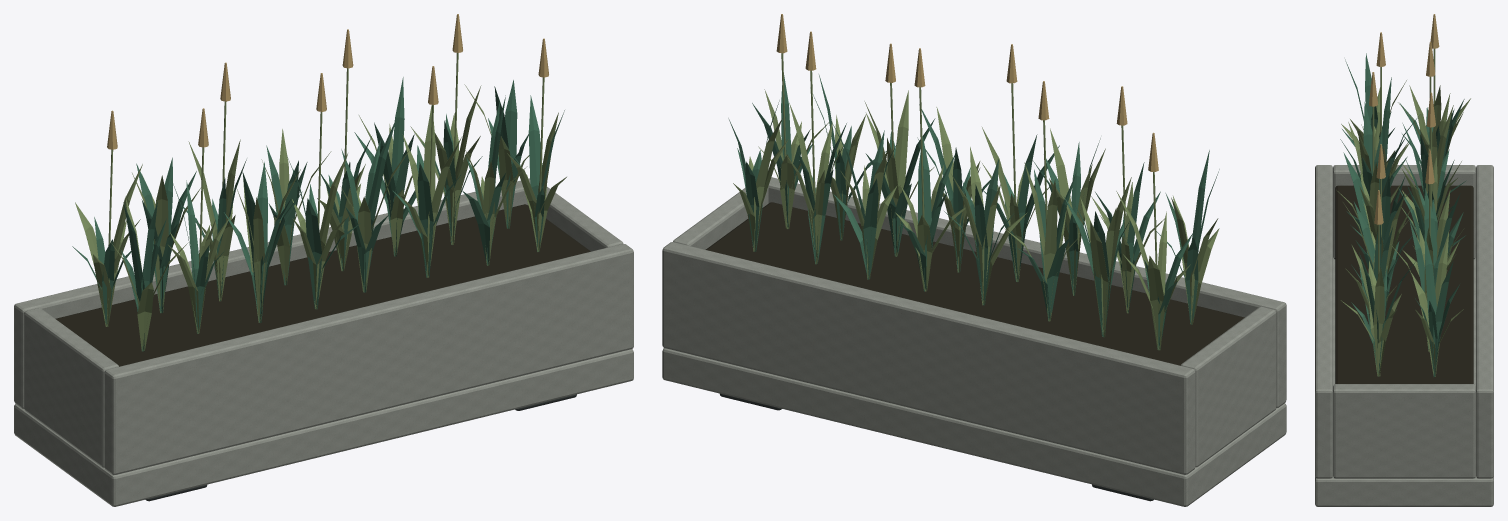
The model's file is rooftop-planter.glb.
3 views of the same model, side by side, from view 1: azimuth 30°, elevation 25°; view 2: azimuth 150°, elevation 25°; view 3: azimuth 270°, elevation 25° (orthographic). The views are drawn at different scales.
Visible parts, largest first — view 1: rooftop-planter; view 2: rooftop-planter; view 3: rooftop-planter.
Boxes of the visible parts, x1,y1,x2,y2 form: rooftop-planter: [14, 14, 633, 506]; rooftop-planter: [662, 14, 1286, 506]; rooftop-planter: [1315, 14, 1493, 506].
Bounding box in the file's own units: 2.4 × 1.63 × 0.8.
Materials: 6 (1 with a texture image).
